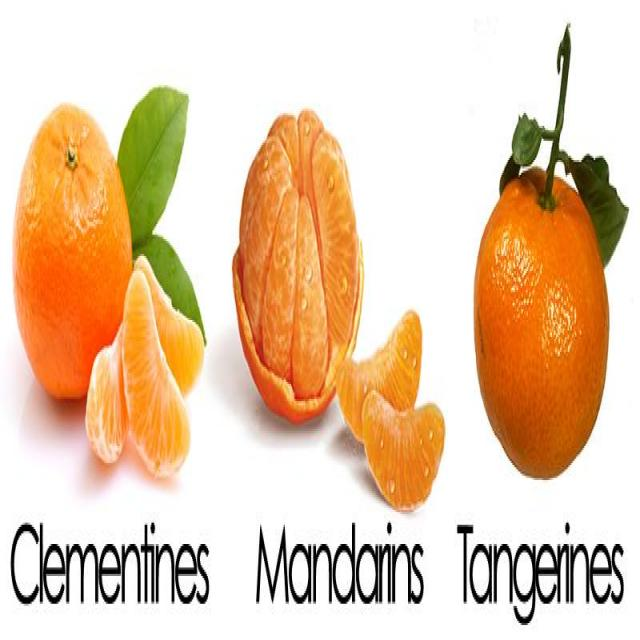10_tangerine: (471, 133, 610, 479)
